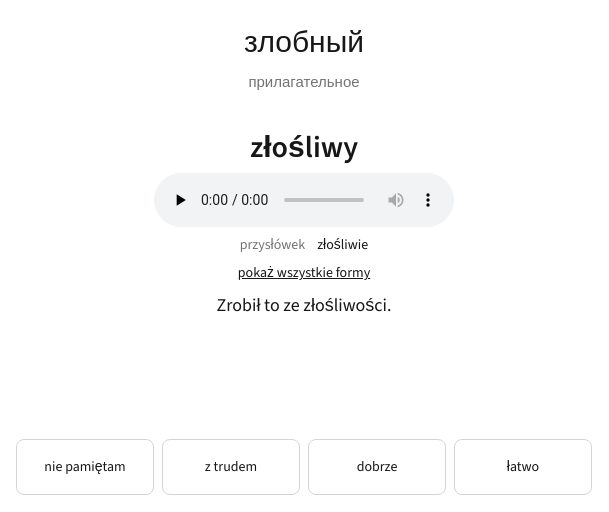
Test case: ReviewCard › shows the basic forms with the answer, and the extended ones only on request
Expected: the text "złośliwie" is shown, [317,235,368,255]
Expected: the text "rozszerzone" is not shown
What coordinates should you click on to do the following:
click the button "pokaż wszystkie formy"
I would click on:
 (304, 273)
Its box is [238,263,370,283].
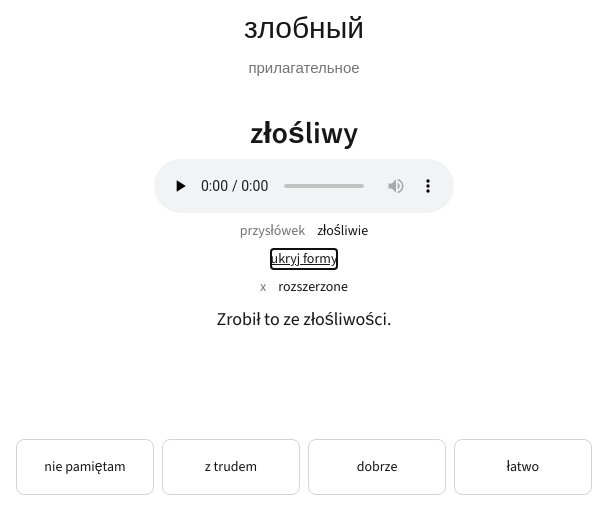
Expected: the text "rozszerzone" is shown, [278,277,348,297]
